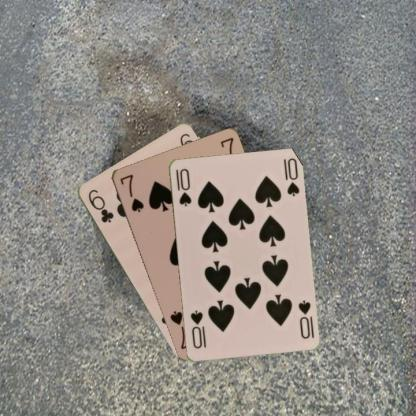10s: (173, 166, 192, 207), (295, 297, 312, 340)
6c: (85, 187, 115, 224)
7s: (117, 171, 145, 213)
